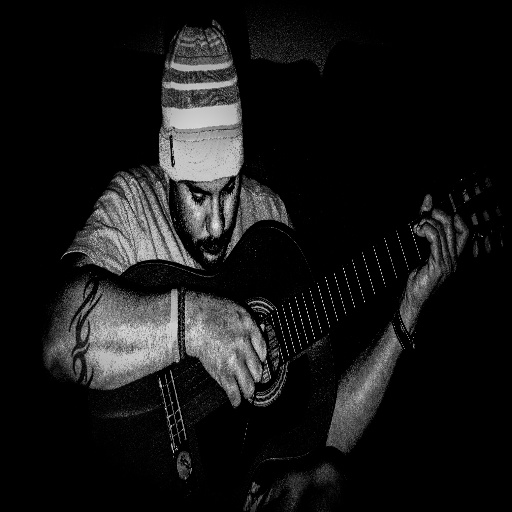hand: (184, 281, 270, 405), (406, 193, 470, 314)
